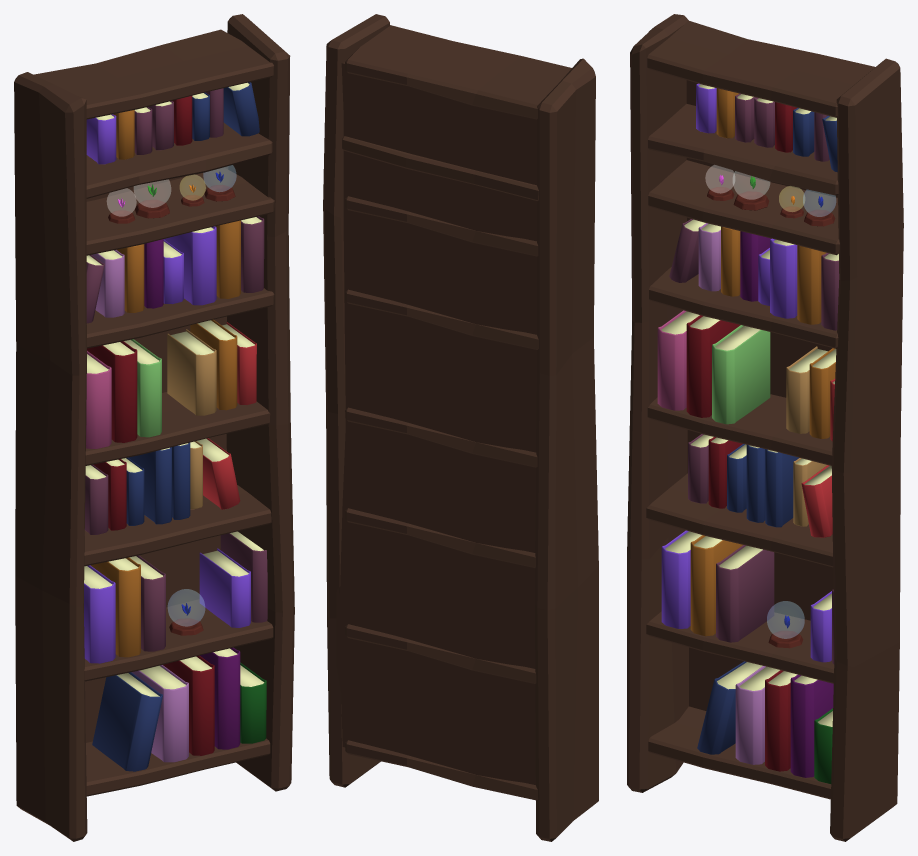
File: bookshelf5.fbx
3 views of the same model, side by side, from view 1: azimuth 30°, elevation 25°; view 2: azimuth 150°, elevation 25°; view 3: azimuth 330°, elevation 25° (orthographic).
Parts seen in each view (by area): view 1: Plane.008; view 2: Plane.008; view 3: Plane.008.
Part boxes in pixels (<box>): Plane.008: <box>14,14,294,841</box>; Plane.008: <box>323,14,598,841</box>; Plane.008: <box>627,14,903,841</box>.
Size of the model in its own units: 195 by 597 by 81.58.
